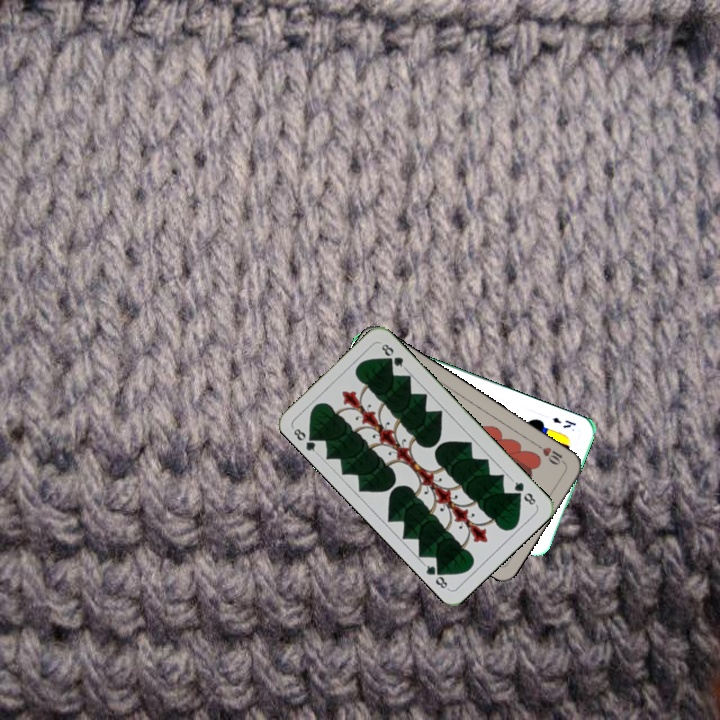EK: (549, 413, 579, 431)
G8: (289, 424, 320, 457), (508, 476, 539, 508)
H10: (532, 440, 568, 468)
